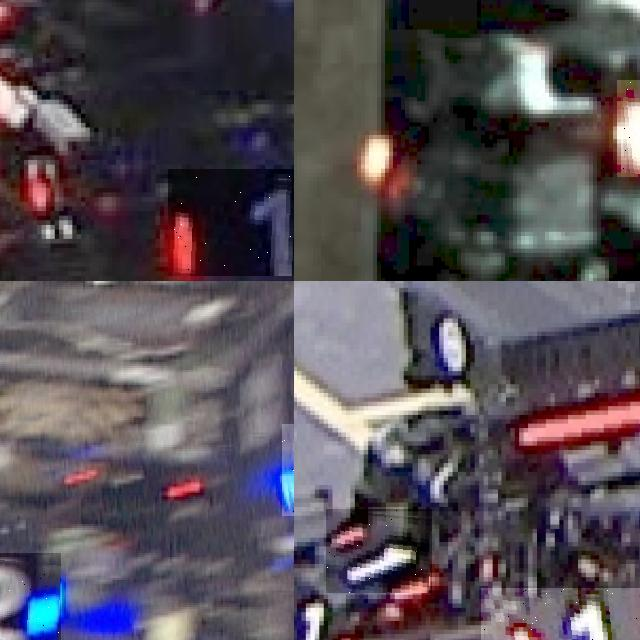B2: (0, 552, 60, 640)
R1: (168, 169, 294, 275), (326, 509, 432, 593), (481, 588, 640, 640), (294, 575, 366, 640)
